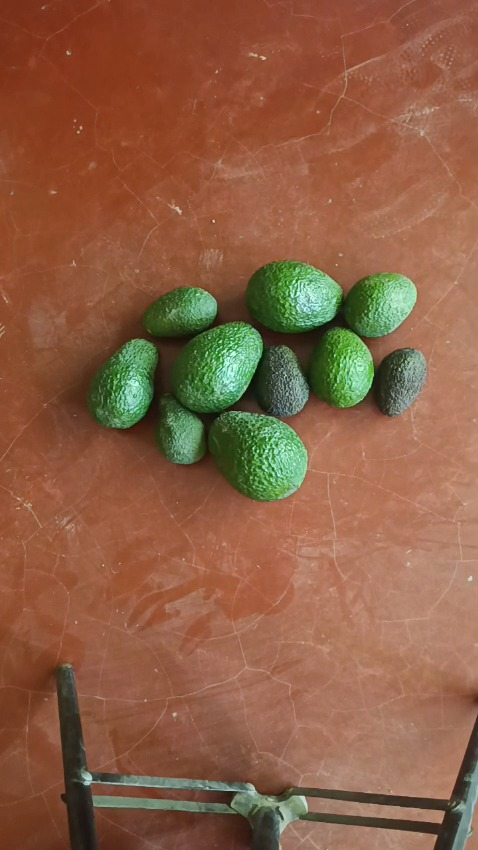Primera: (208, 411, 307, 499), (171, 322, 264, 413), (307, 328, 373, 409)
Segunda: (245, 260, 344, 333), (87, 338, 159, 428)
Tercera: (342, 273, 417, 339), (253, 344, 309, 417), (142, 287, 217, 339), (374, 348, 427, 417), (156, 394, 206, 463)
